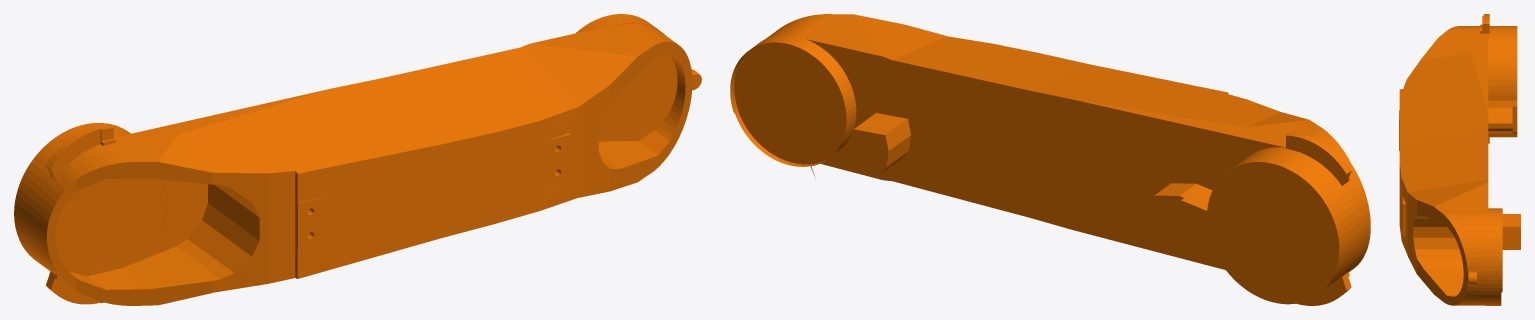
File: Eslabon2.obj
3 views of the same model, side by side, from view 1: azimuth 30°, elevation 25°; view 2: azimuth 150°, elevation 25°; view 3: azimuth 270°, elevation 25° (orthographic). The views are drawn at different scales.
Parts seen in each view (by area): view 1: default; view 2: default; view 3: default.
Part boxes in pixels (bbox=[...]): default: bbox=[14, 14, 701, 305]; default: bbox=[730, 14, 1370, 305]; default: bbox=[1399, 14, 1520, 305].
Size of the model in its own units: 0.8637 by 0.2193 by 0.1995.
